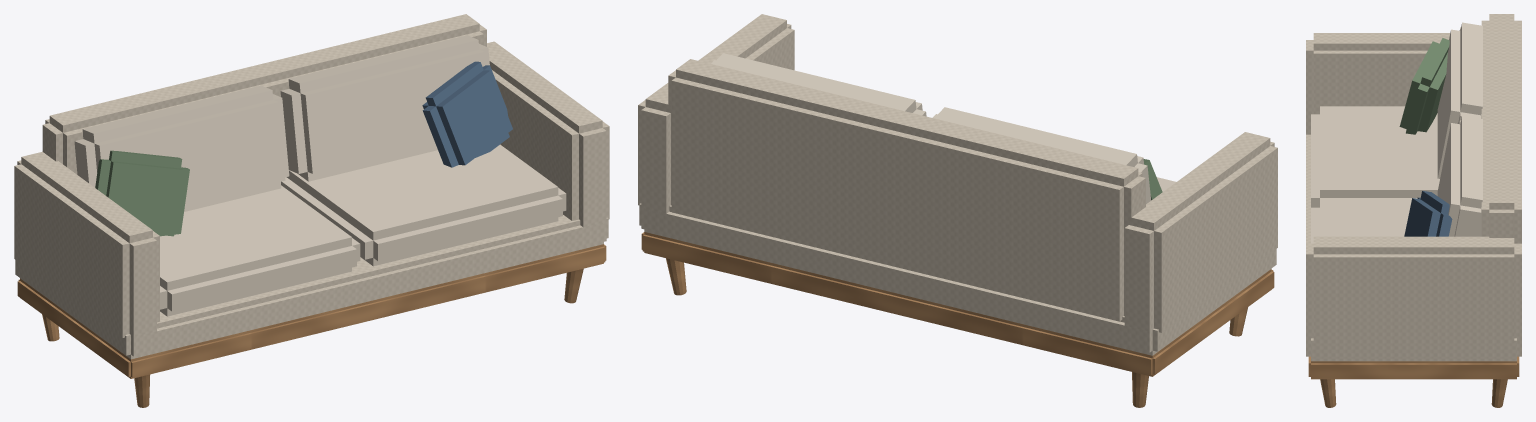
The model's file is modern_sofa.obj.
The picture shows the model from 3 angles, left to right: view 1: azimuth 30°, elevation 25°; view 2: azimuth 150°, elevation 25°; view 3: azimuth 270°, elevation 25°; orthographic projection. The views are drawn at different scales.
Parts seen in each view (by area): view 1: SofaSeatCushion_Right, SofaBaseDeck, SofaArm_Left, SofaBackCushion_Right, SofaSeatCushion_Left, SofaBackCushion_Left, SofaWoodFrame, SofaArm_Right, SofaBackFrame, SofaPillow_Right, SofaPillow_Left; view 2: SofaBackFrame, SofaArm_Left, SofaBaseDeck, SofaWoodFrame, SofaArm_Right, SofaBackCushion_Left, SofaBackCushion_Right; view 3: SofaArm_Right, SofaSeatCushion_Left, SofaBackFrame, SofaArm_Left, SofaBaseDeck, SofaBackCushion_Right, SofaBackCushion_Left, SofaWoodFrame, SofaSeatCushion_Right, SofaPillow_Left, SofaPillow_Right, SofaLeg_0.92_-0.34 (+1 smaller).
Part boxes in pixels (x1,y1,x2,y2): SofaSeatCushion_Right: (281, 144, 566, 266); SofaBaseDeck: (15, 215, 608, 359); SofaArm_Left: (14, 151, 159, 338); SofaBackCushion_Right: (280, 35, 489, 181); SofaSeatCushion_Left: (160, 185, 360, 316); SofaBackCushion_Left: (74, 85, 289, 211); SofaWoodFrame: (17, 244, 606, 378); SofaArm_Right: (487, 41, 609, 227); SofaBackFrame: (42, 14, 486, 174); SofaPillow_Right: (422, 61, 512, 167); SofaPillow_Left: (95, 150, 189, 236); SofaBackFrame: (668, 59, 1145, 321); SofaArm_Left: (1124, 132, 1277, 333); SofaBaseDeck: (639, 203, 1276, 355); SofaWoodFrame: (641, 232, 1274, 376); SofaArm_Right: (638, 14, 794, 215); SofaBackCushion_Left: (932, 107, 1151, 203); SofaBackCushion_Right: (711, 53, 926, 116); SofaArm_Right: (1306, 236, 1521, 343); SofaSeatCushion_Left: (1311, 106, 1439, 207); SofaBackFrame: (1481, 14, 1521, 243); SofaArm_Left: (1306, 33, 1450, 134); SofaBaseDeck: (1306, 134, 1521, 361); SofaBackCushion_Right: (1437, 116, 1482, 236); SofaBackCushion_Left: (1437, 22, 1482, 178); SofaWoodFrame: (1308, 356, 1519, 379); SofaSeatCushion_Right: (1311, 199, 1411, 243); SofaPillow_Left: (1399, 38, 1449, 134); SofaPillow_Right: (1404, 191, 1452, 236); SofaLeg_0.92_-0.34: (1320, 379, 1336, 407).
Size of the model in its own units: 2.08 by 0.8823 by 0.86.
Materials: 5 (2 with a texture image).
